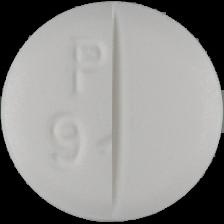55154-5767: (0, 0, 224, 224)
